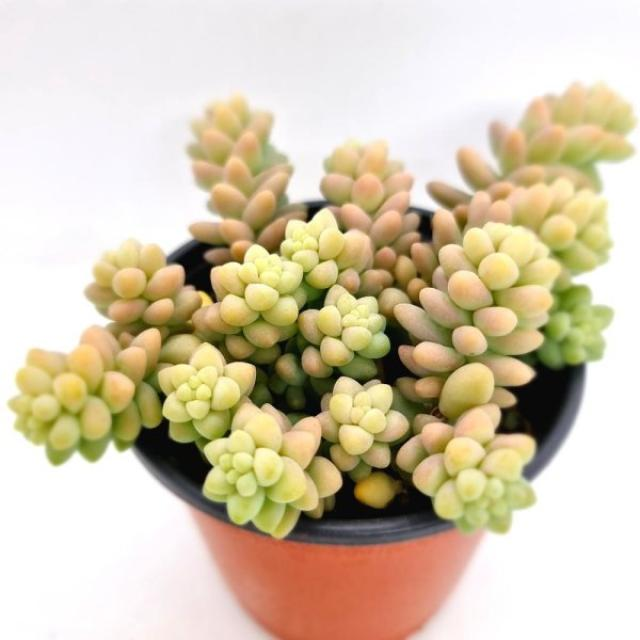Sedum: (420, 222, 561, 419), (9, 325, 161, 464), (188, 95, 306, 265), (202, 402, 341, 538), (396, 402, 535, 532), (442, 176, 611, 274), (320, 140, 421, 294), (490, 84, 632, 191), (85, 239, 202, 347), (318, 376, 410, 482), (159, 342, 256, 439), (299, 285, 390, 379), (212, 245, 304, 328), (280, 209, 365, 289)
